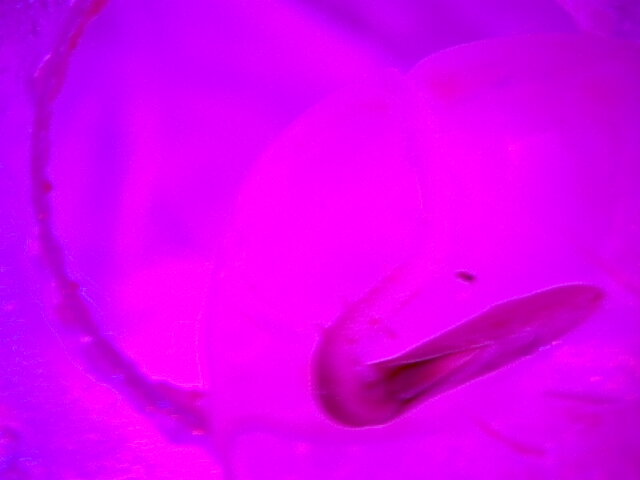sprout: (311, 250, 606, 427)
